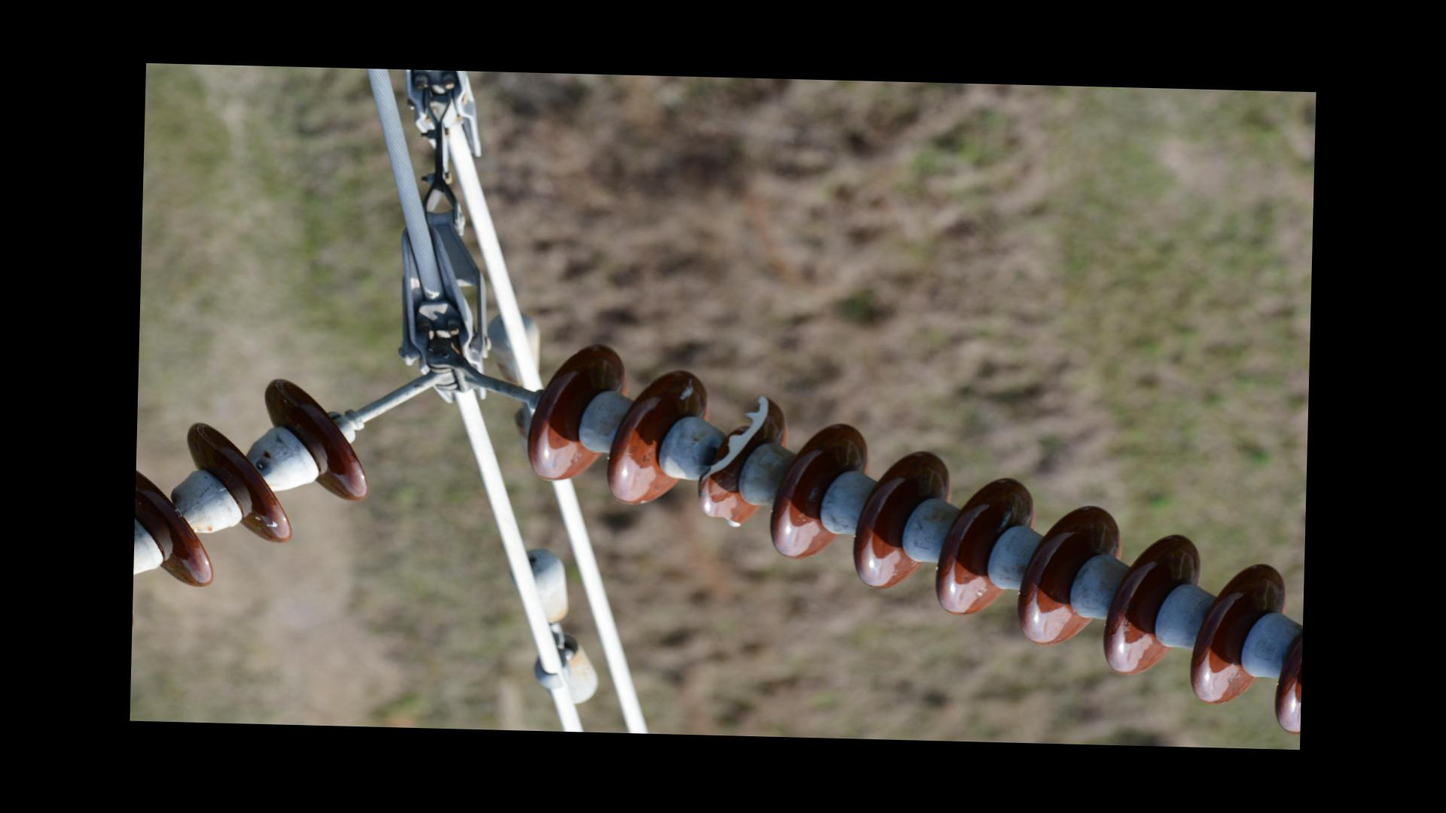damper: (501, 542, 606, 711)
